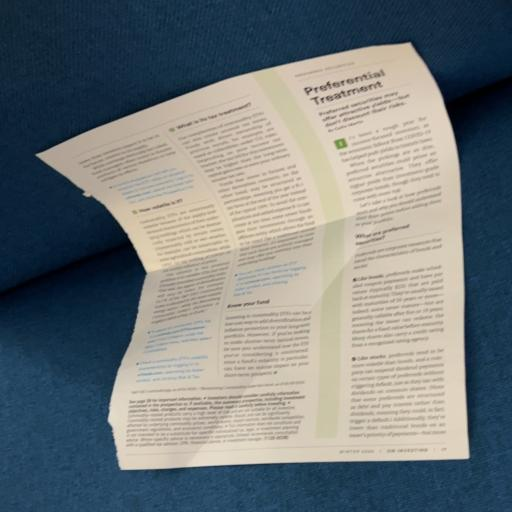paper: (9, 17, 512, 484)
